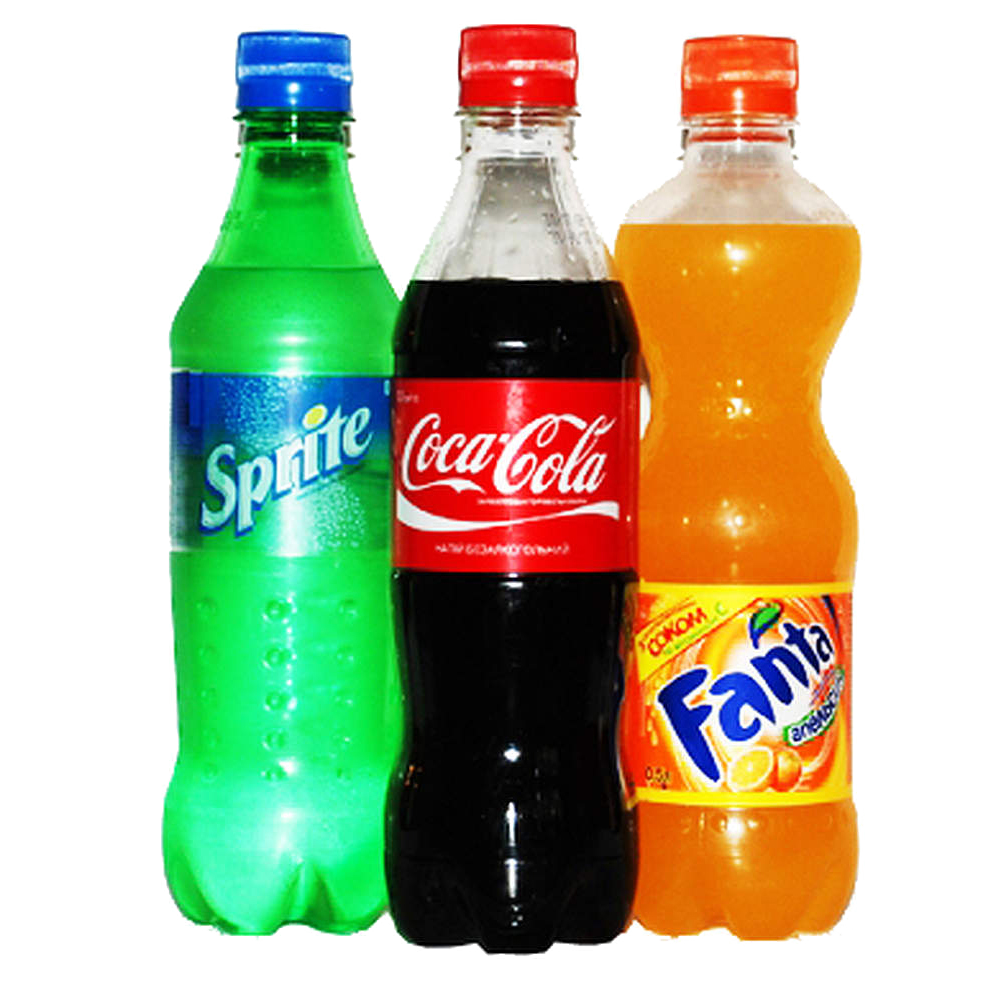Coca-Cola: (382, 40, 637, 972)
Fanta: (609, 39, 863, 971)
Sprite: (143, 17, 398, 948)
